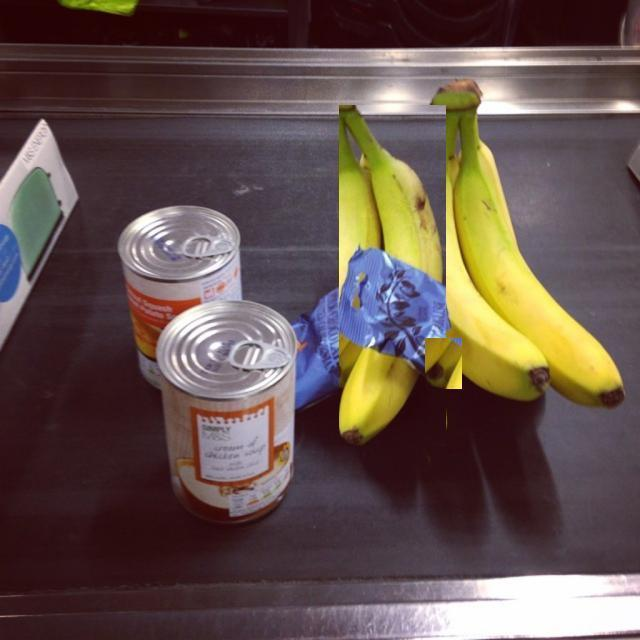Banana: (428, 82, 622, 406), (339, 105, 446, 446)
